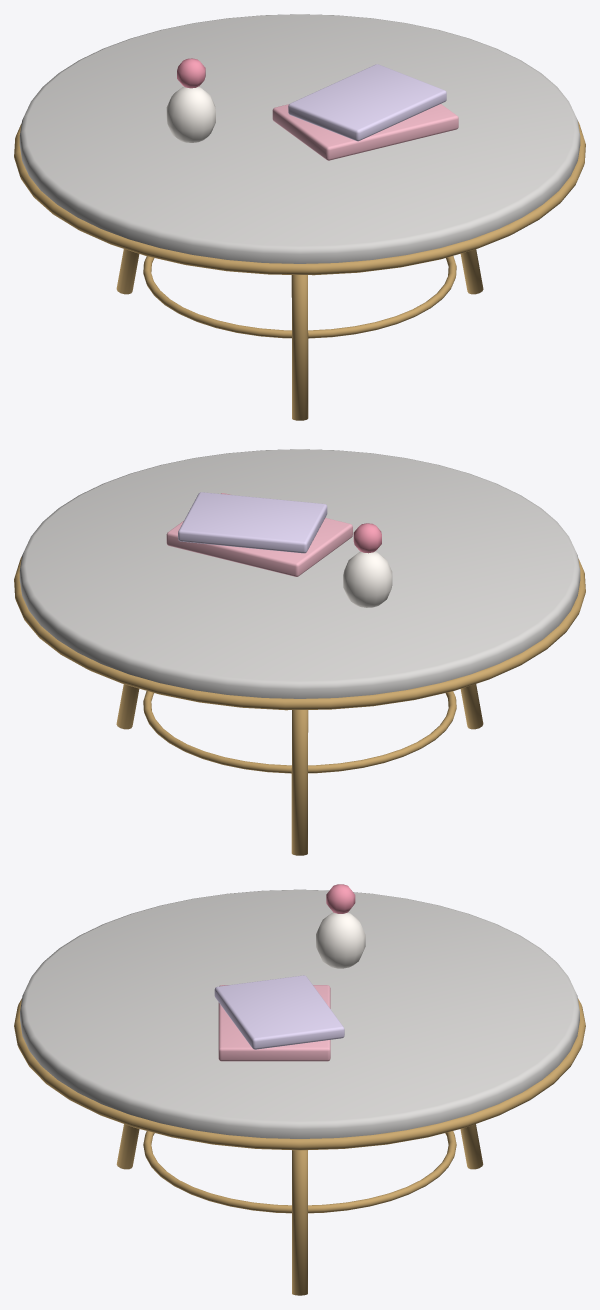
The model's file is furn_coffeetable.glb.
3 renders of one model, top to bottom at view 1: azimuth 30°, elevation 25°; view 2: azimuth 150°, elevation 25°; view 3: azimuth 270°, elevation 25°, orthographic.
Parts seen in each view (by area): view 1: Cube; view 2: Cube; view 3: Cube.
Boxes of the visible parts, <box> form: Cube: <box>14,14,585,420</box>; Cube: <box>14,449,585,855</box>; Cube: <box>14,884,585,1295</box>.
Size of the model in its own units: 1.12 by 0.6095 by 1.12.
